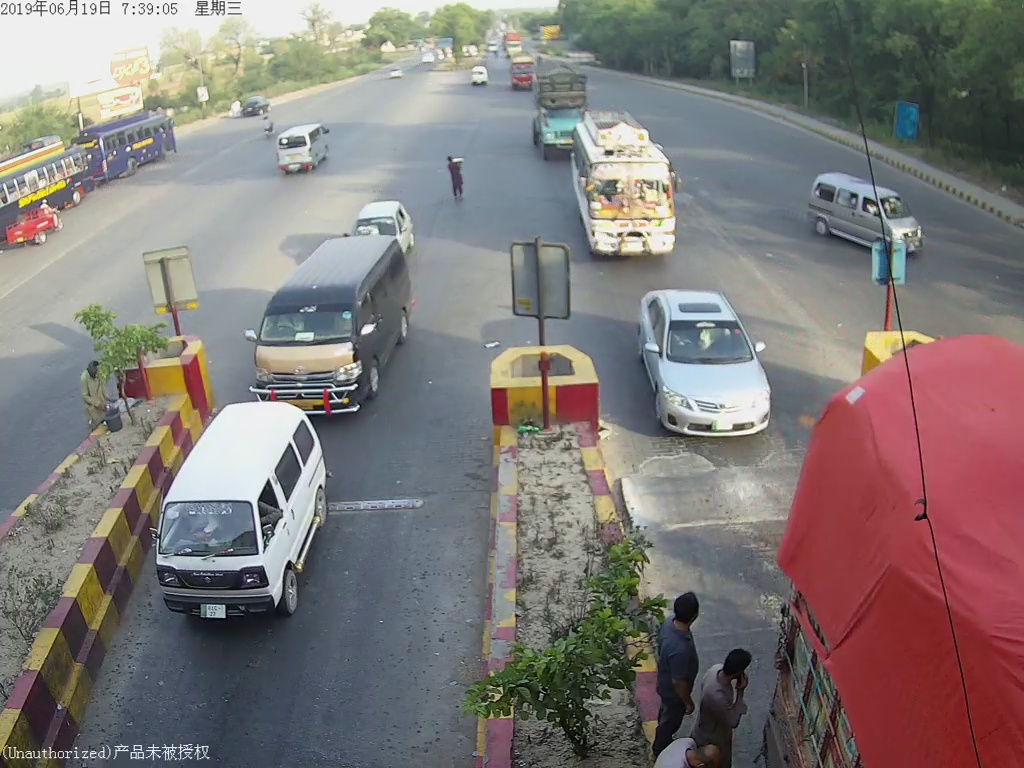Cat-1: (148, 396, 328, 611), (637, 284, 779, 440), (353, 201, 416, 244)
Cat-2: (244, 230, 415, 412)
Cat-3: (573, 112, 681, 259)
Cat-4: (522, 65, 590, 156)
